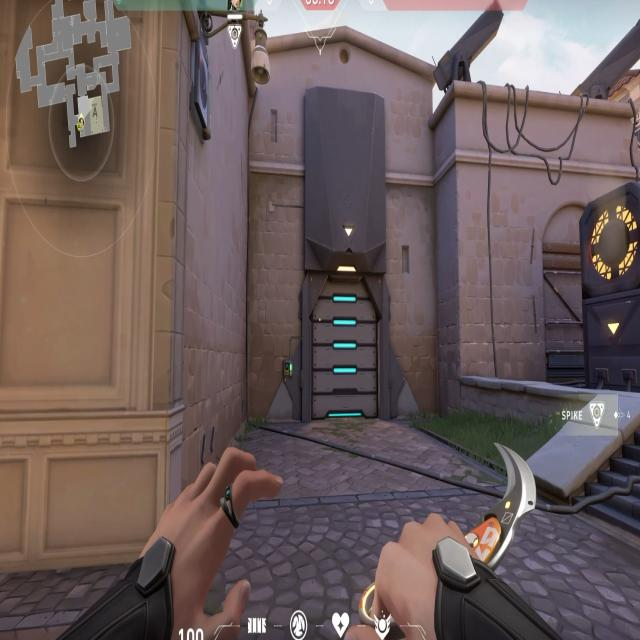A_Door: (305, 248, 388, 427)
